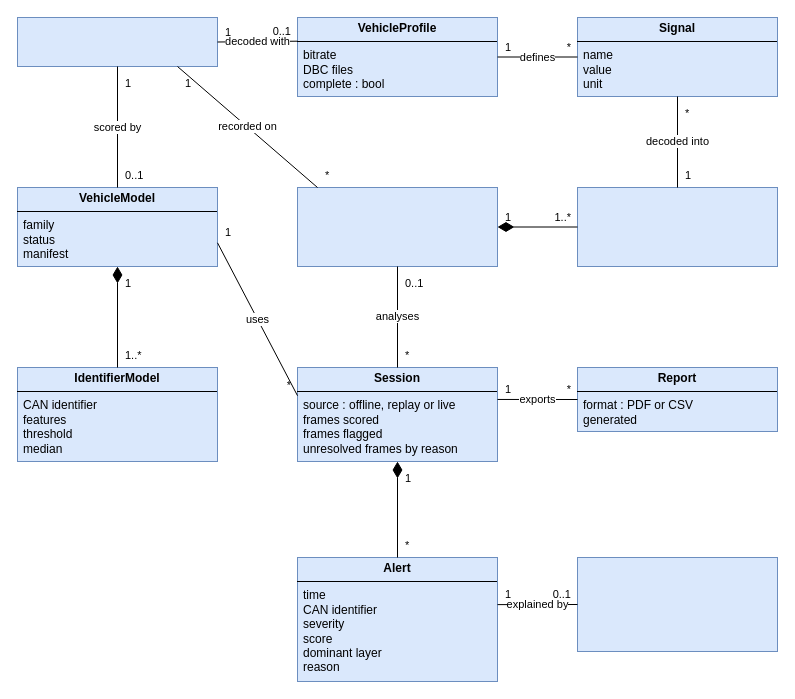
This 795x699 diagram has some shape labels left out. The shapes that lost their labels are listed below. From the top down, each one's centre as x and y in pixels, then its label:
point 117,41: Vehicle name
point 397,226: Recording file format SHA-256 fingerprint
point 677,226: Frame timestamp CAN identifier payload (0 to 8 bytes)
point 677,604: Explanation engine summary likely cause recommendation
